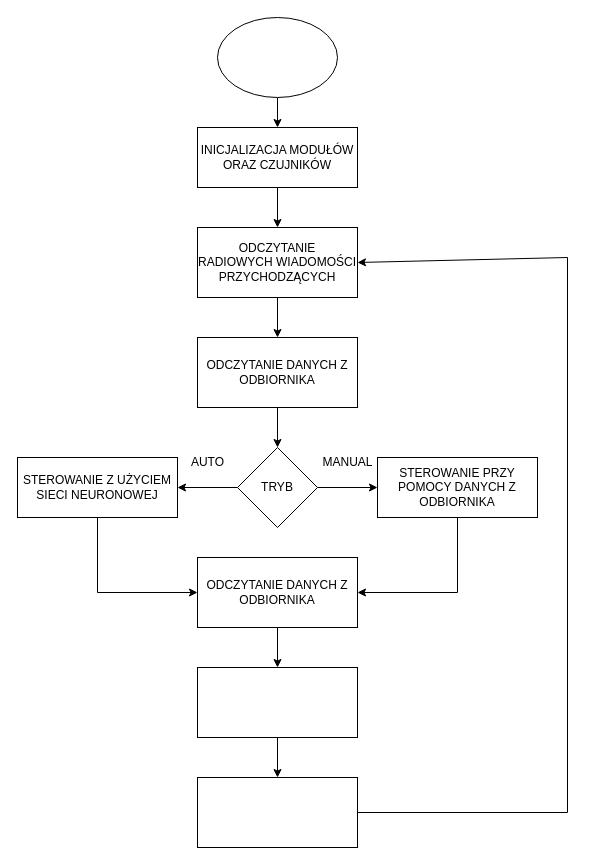
Image size: 593x865. Some labels were removed from this diagram. Each missing label, with the centre of its shape:
"ALGORYTMMY OBLICZENIA TRAJEKTORII" goes at pixel 277 812.
"ODCZYT DANYCH Z CZUJNIKÓW: GPS, IMU, PITOT" goes at pixel 277 702.
"URUCHOMIENIE KONTROLERA" goes at pixel 277 57.
